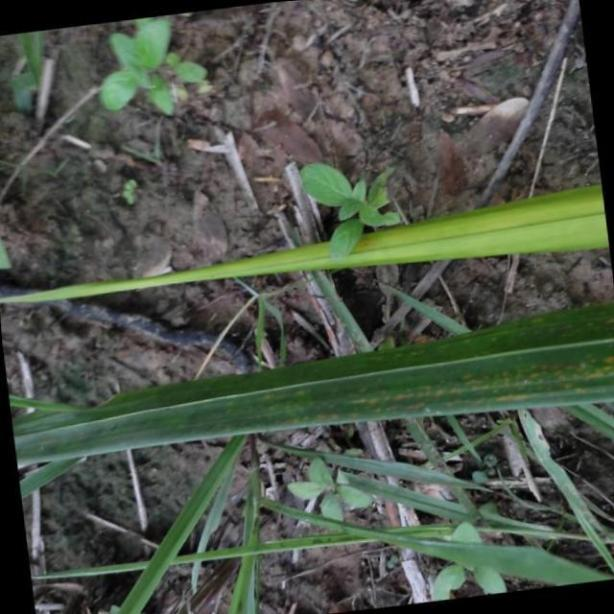nitrogen: (5, 310, 614, 469), (1, 177, 614, 308)
